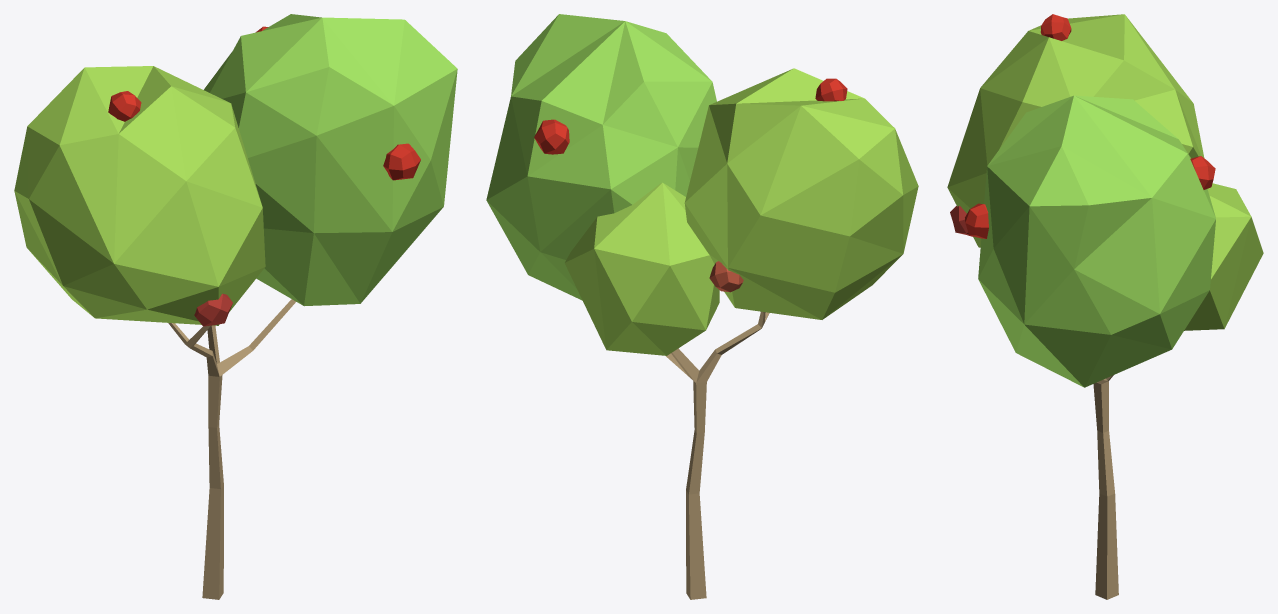
File: Apple_Tree_Apples_s_03_LOD.fbx
3 views of the same model, side by side, from view 1: azimuth 30°, elevation 25°; view 2: azimuth 150°, elevation 25°; view 3: azimuth 270°, elevation 25° (orthographic). The views are drawn at different scales.
Visible parts, largest first — view 1: Apple_Tree_Apples_s_03_LOD0; view 2: Apple_Tree_Apples_s_03_LOD0; view 3: Apple_Tree_Apples_s_03_LOD0.
Boxes of the visible parts, left/top/right/bottom form: Apple_Tree_Apples_s_03_LOD0: left=14, top=14, right=457, bottom=599; Apple_Tree_Apples_s_03_LOD0: left=486, top=14, right=918, bottom=599; Apple_Tree_Apples_s_03_LOD0: left=947, top=14, right=1263, bottom=599.
Size of what is drawn, in the model's own units: 227 by 304 by 161.
